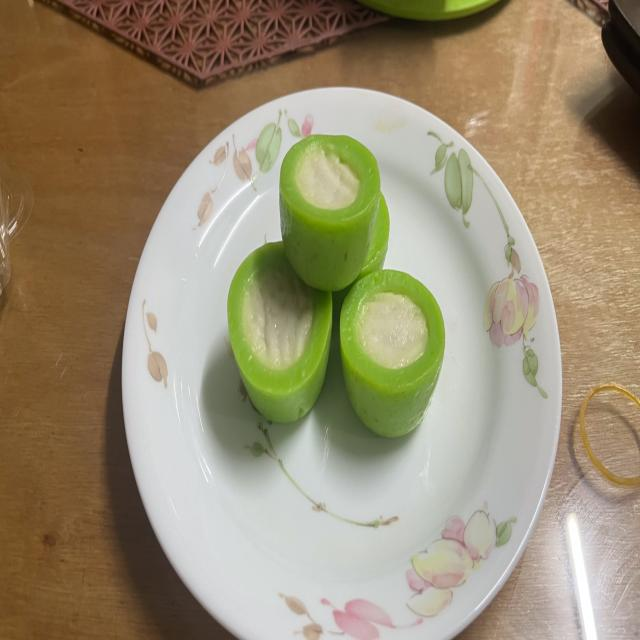nona-manis: (228, 242, 332, 422), (340, 269, 445, 438), (280, 136, 380, 291), (332, 193, 390, 320)
